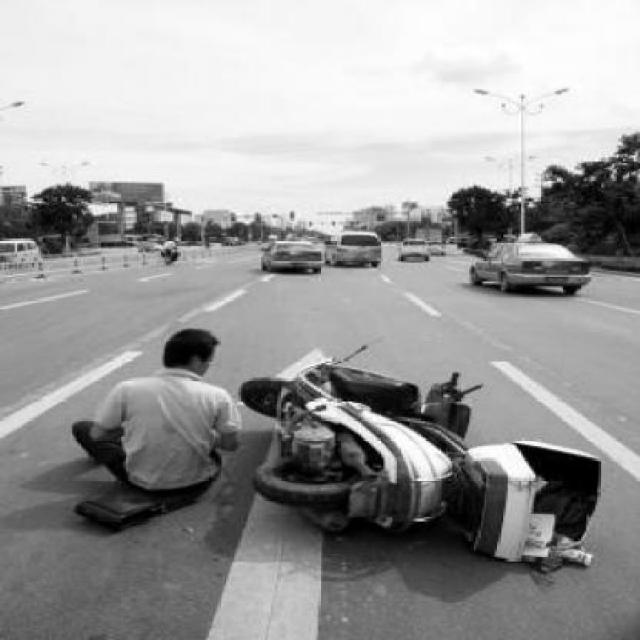fall: (59, 318, 244, 514)
